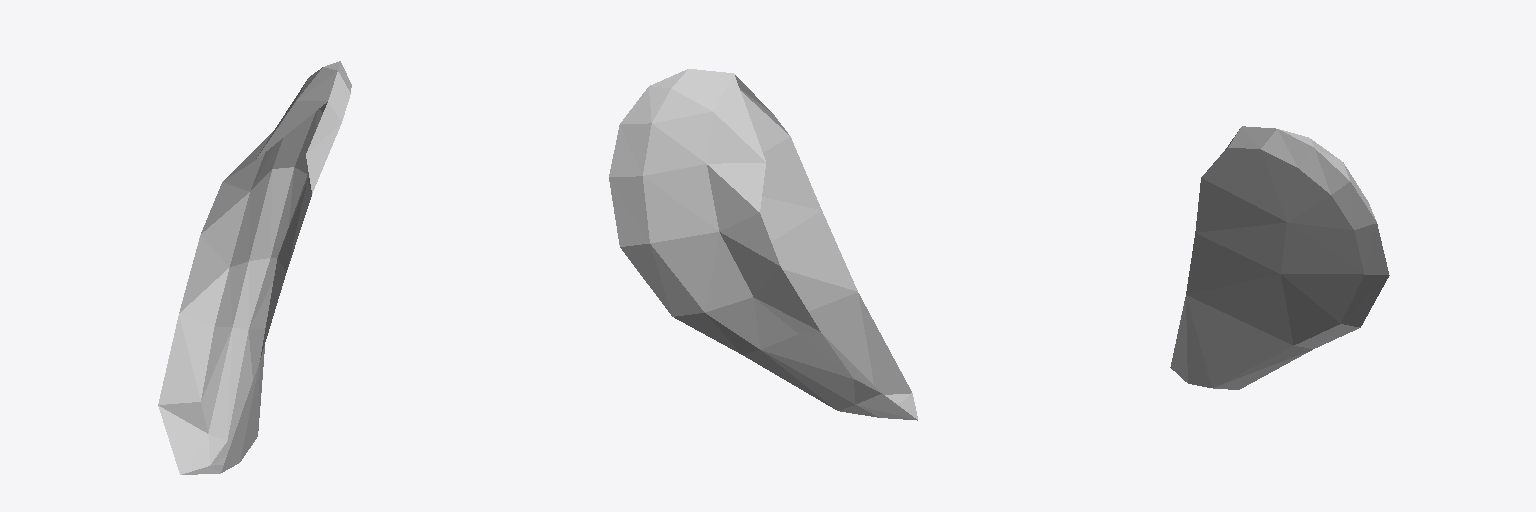
File: ZAEAR.obj
The picture shows the model from 3 angles: view 1: azimuth 30°, elevation 25°; view 2: azimuth 150°, elevation 25°; view 3: azimuth 270°, elevation 25°; orthographic projection.
Visible parts, largest first — view 1: Ear_Body.001; view 2: Ear_Body.001; view 3: Ear_Body.001.
Boxes of the visible parts, x1=… form: Ear_Body.001: x1=158, y1=61, x2=351, y2=474; Ear_Body.001: x1=609, y1=69, x2=917, y2=420; Ear_Body.001: x1=1170, y1=126, x2=1389, y2=389.
Bounding box in the file's own units: 0.0422 × 0.0593 × 0.0354.